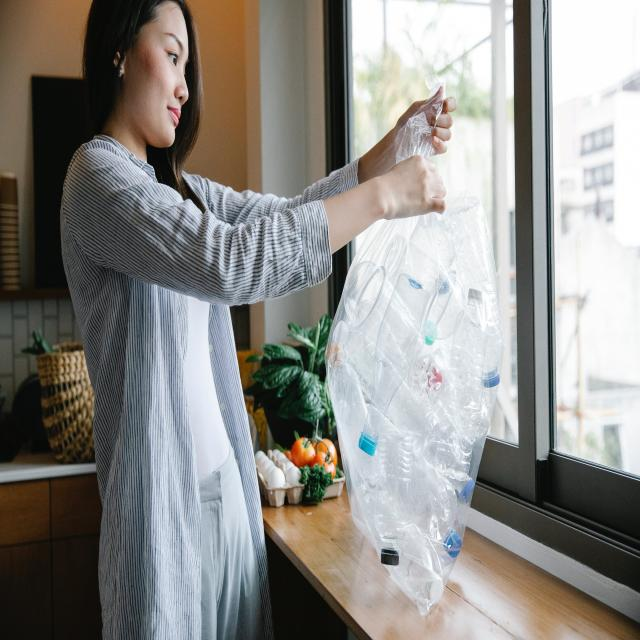plastic: (352, 259, 478, 539)
